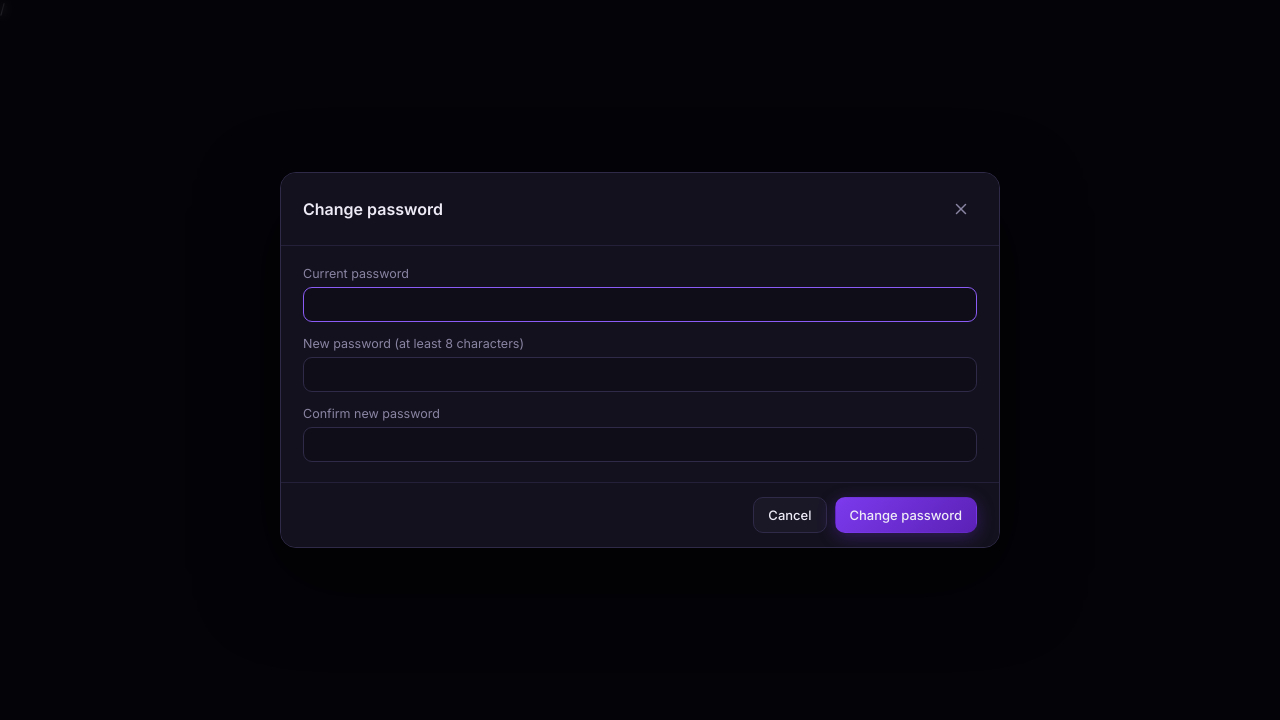
Test: ChangePasswordDialog › a new password shorter than eight characters is refused
Type "old-pass-1" into the password field labelled "Current password" at {"x": 640, "y": 304}, box [303,287,977,322]
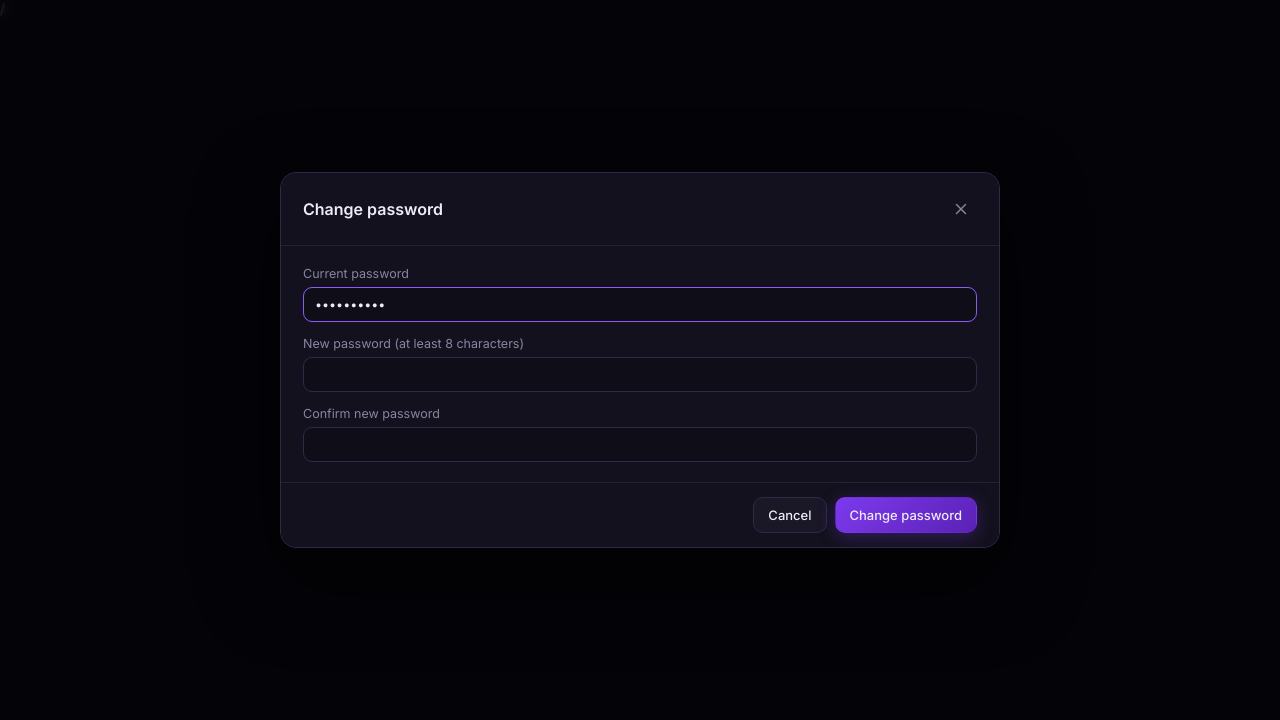
Type "short" into the password field labelled "New password (at least 8 characters)" at {"x": 640, "y": 374}, box [303,357,977,392]
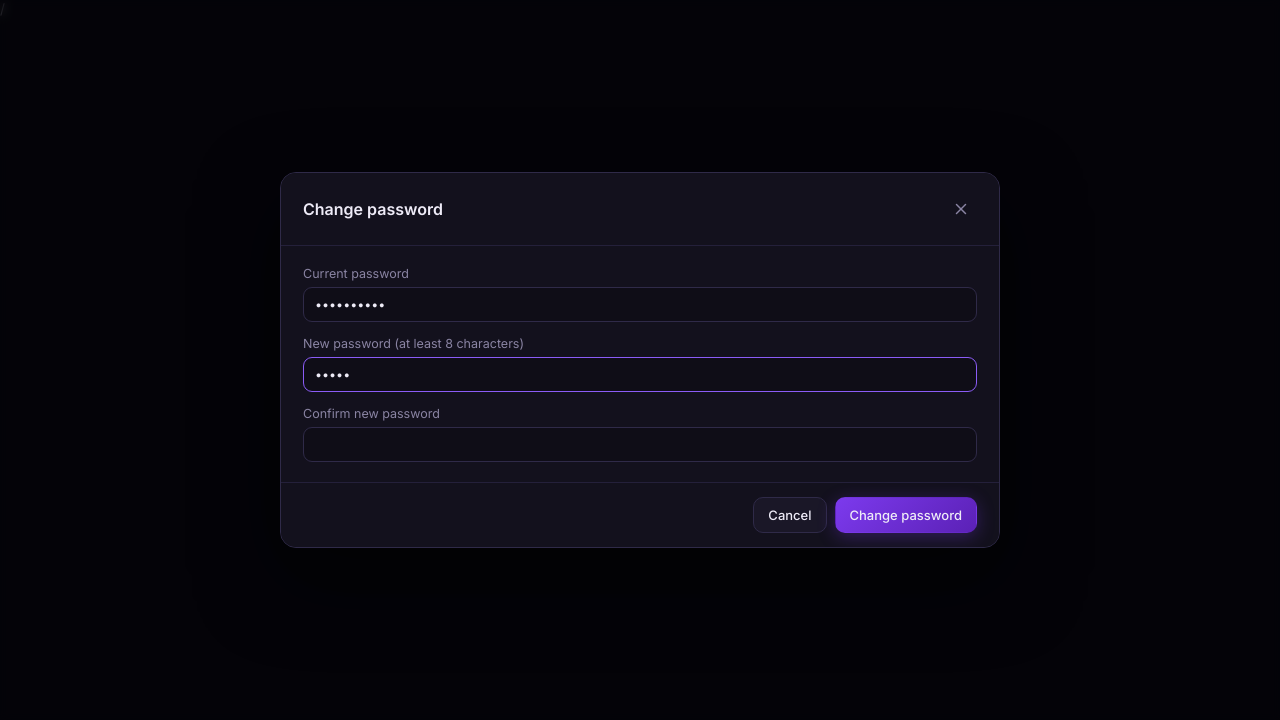
Type "short" into the password field labelled "Confirm new password" at {"x": 640, "y": 444}, box [303,427,977,462]
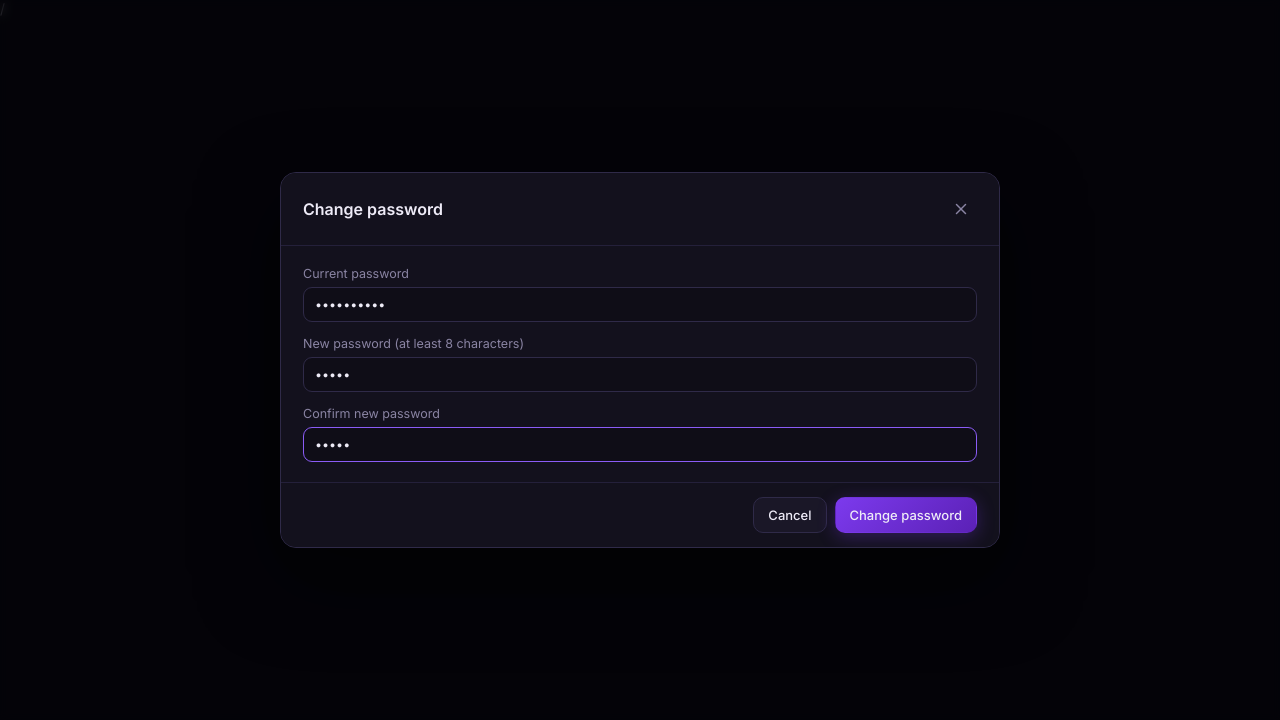
Click the button "Change password" at {"x": 906, "y": 515}, box [834,497,977,533]
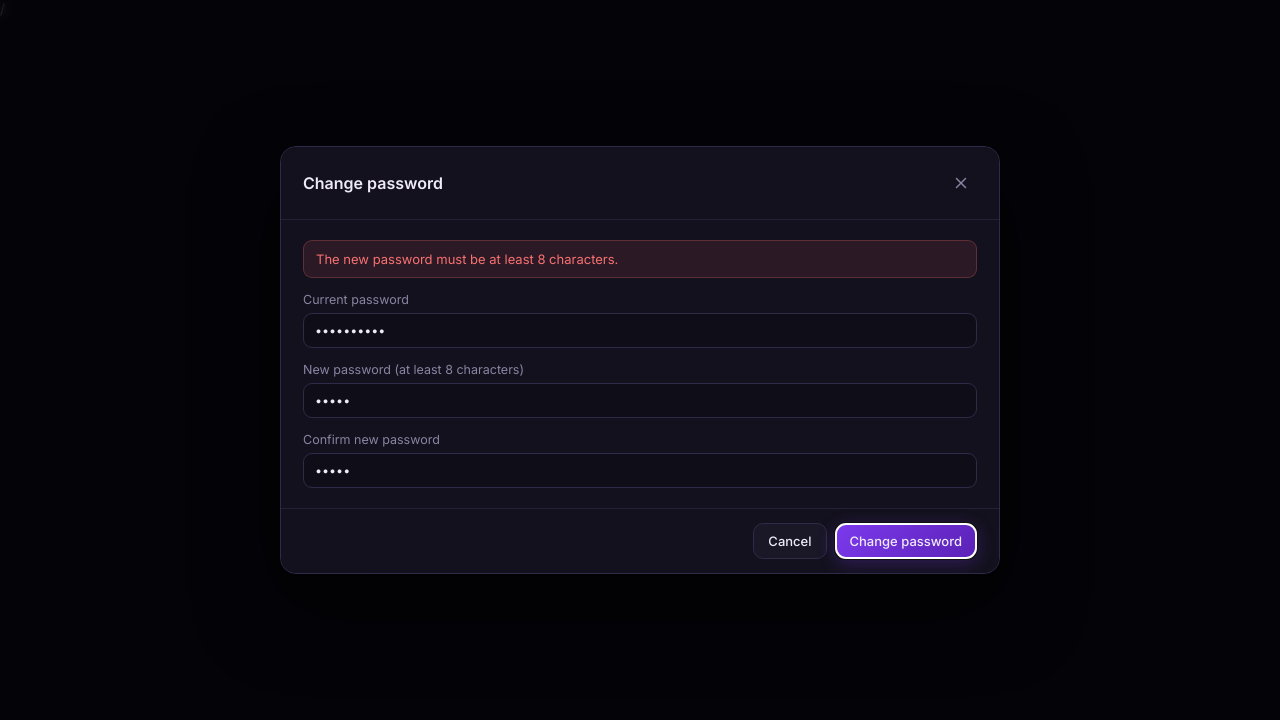
Now the message shows "at least 8", box [316,251,618,267]
